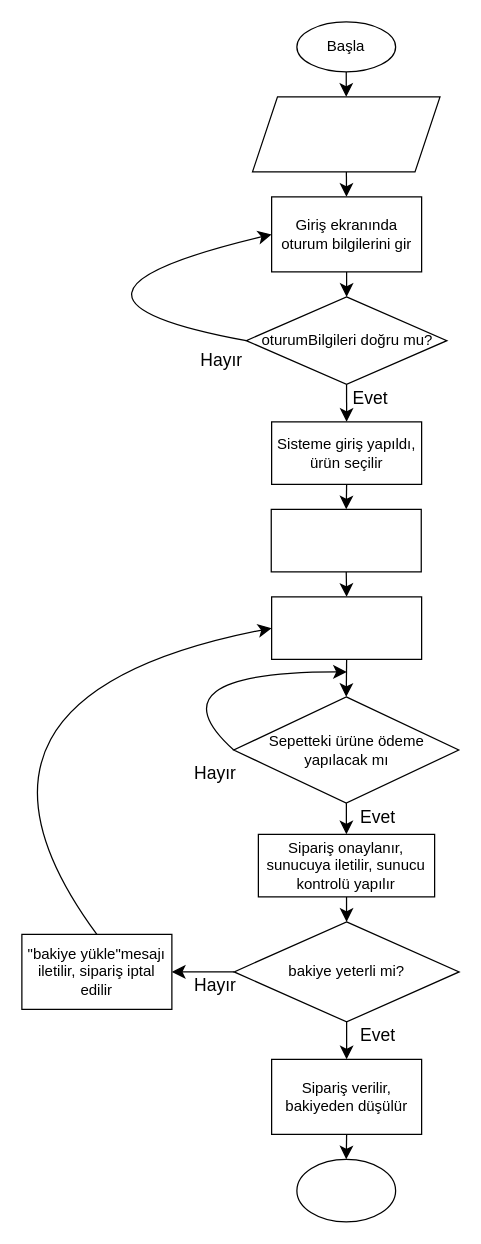
This 481x1244 diagram has some shape labels left out. The centre of each missing label's shape, as x and y in pixels:
Bitir: the point at 346,1190
oturumBilgileri, bakiye,ürün,sepet: the point at 345,134
sepet düzenlenilir: the point at 346,627
Seçilen ürün sepete eklenir: the point at 345,540
